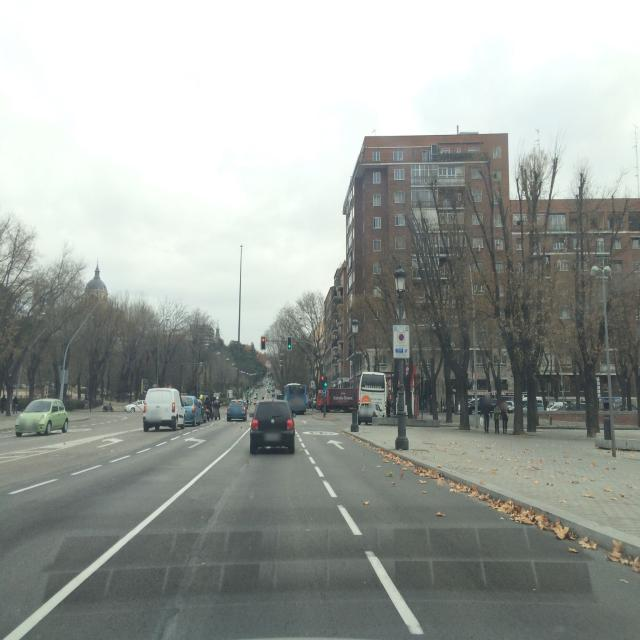forb_stopping: (398, 334, 404, 342)
